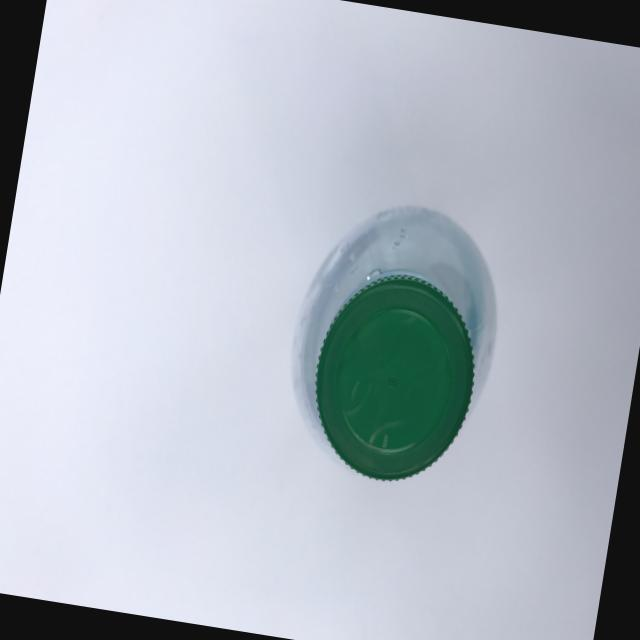Plastic: (289, 241, 510, 506)
